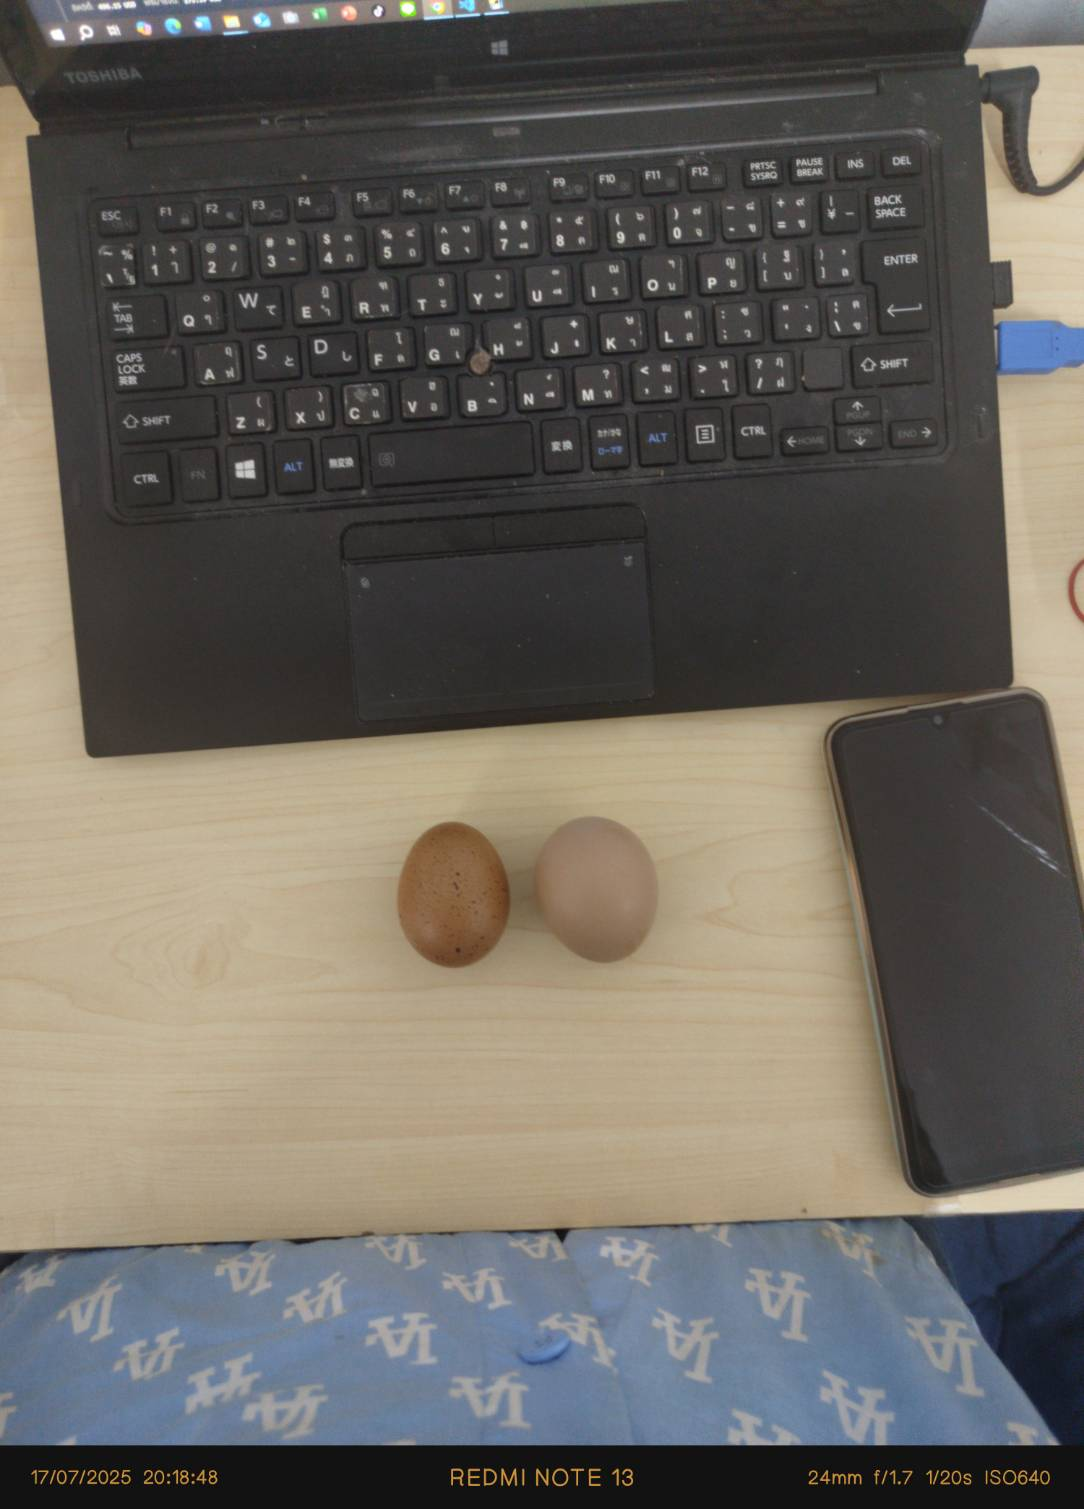egg5: (524, 810, 657, 968), (382, 812, 513, 972)
